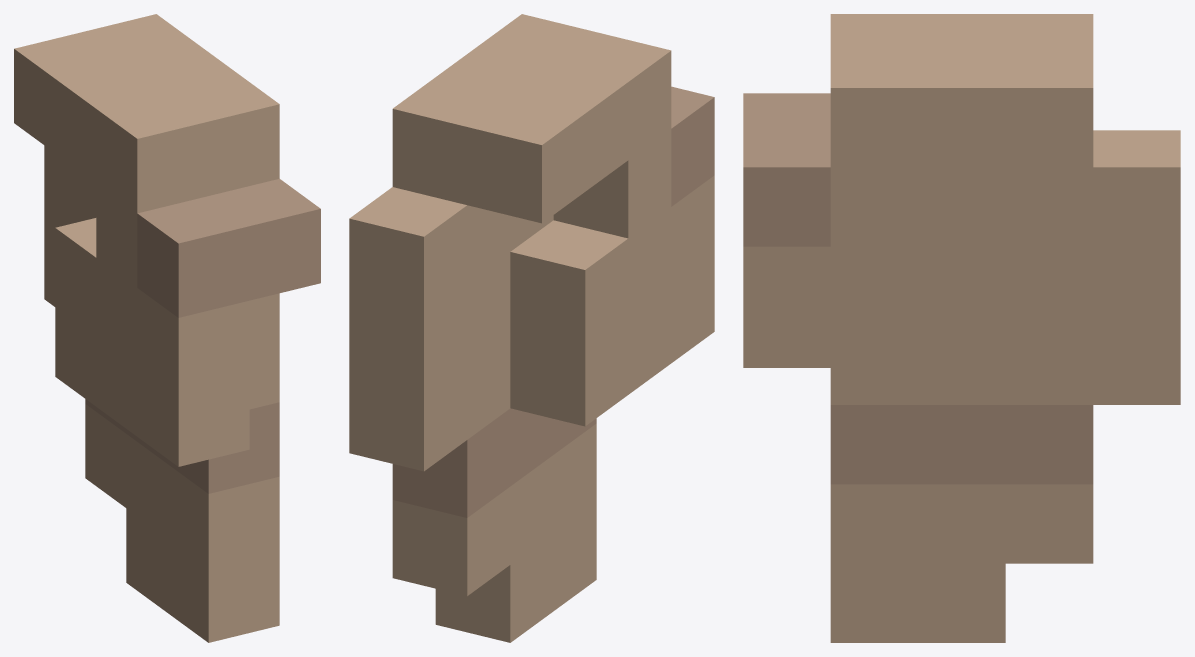
The model's file is Redhead_Ponytail-17.obj.
The picture shows the model from 3 angles, left to right: view 1: azimuth 30°, elevation 25°; view 2: azimuth 150°, elevation 25°; view 3: azimuth 270°, elevation 25°; orthographic projection. The views are drawn at different scales.
Bounding box in the file's own units: 0.2 × 0.7 × 0.5.
1 material, 1 textured.
